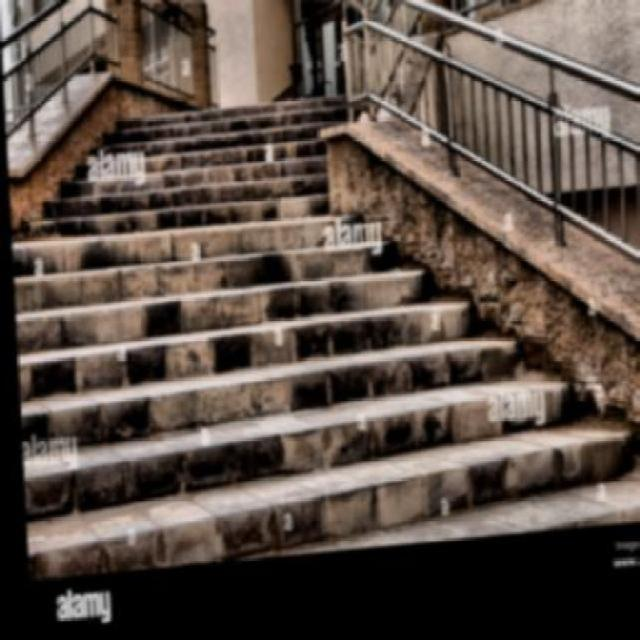stair: (3, 38, 600, 504)
